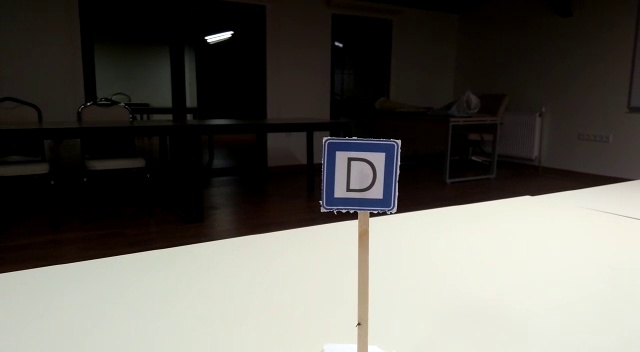durak: (321, 140, 398, 211)
